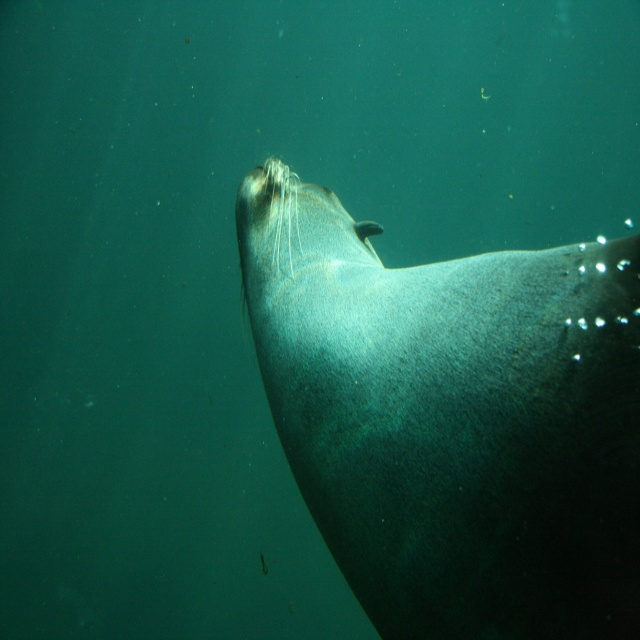Harbor seal: (235, 154, 640, 639)
